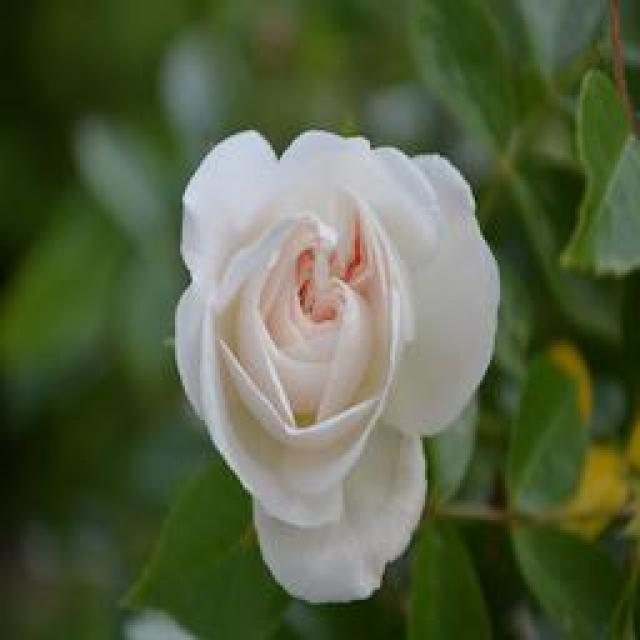rose: (142, 104, 526, 585)
